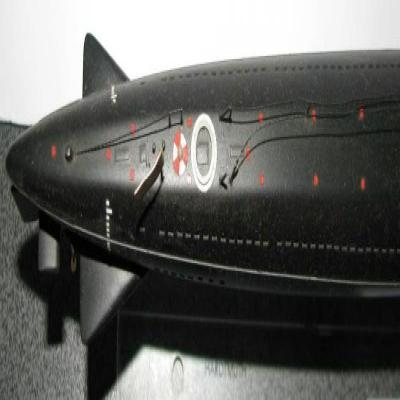other: (5, 36, 400, 400)
